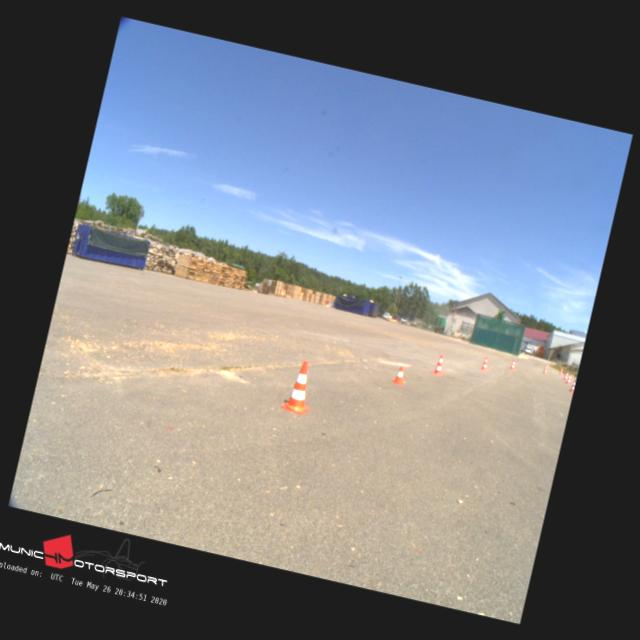large_orange_cone: (280, 357, 319, 414), (432, 353, 446, 375), (480, 355, 489, 370), (509, 358, 516, 370), (570, 378, 576, 392), (565, 372, 572, 384), (542, 364, 549, 374), (562, 370, 568, 380), (558, 366, 563, 376)
orange_cone: (392, 365, 408, 385)
